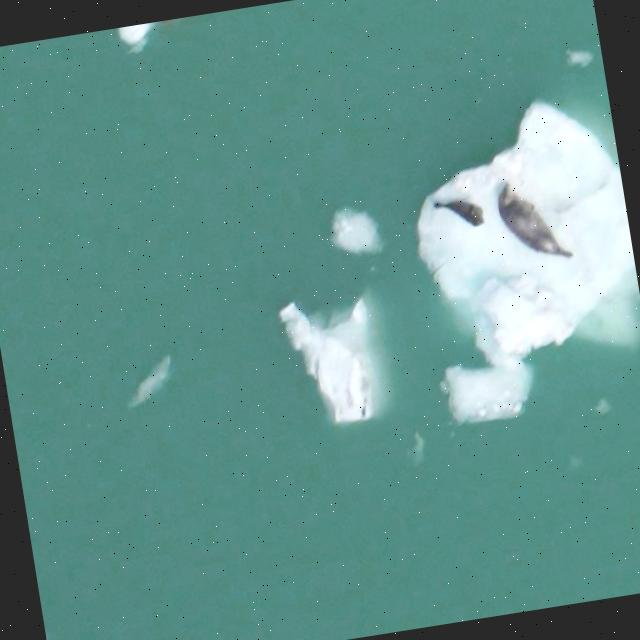seal: (486, 179, 574, 276), (434, 191, 486, 228)
